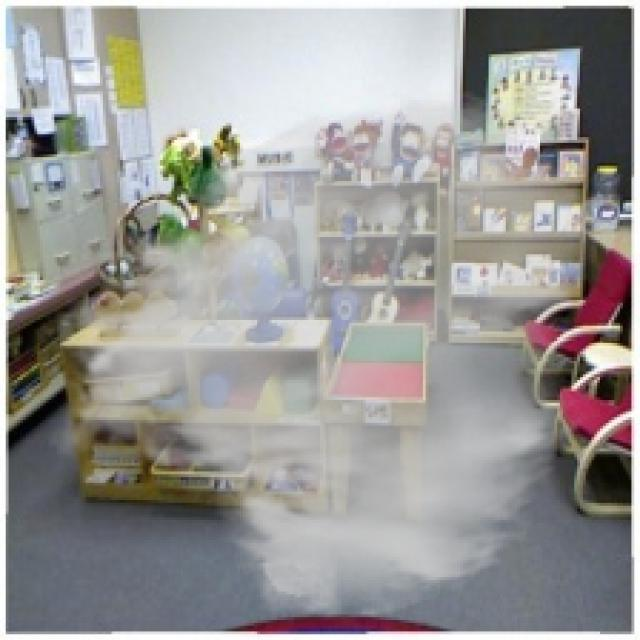Smoke: (46, 86, 603, 623)
